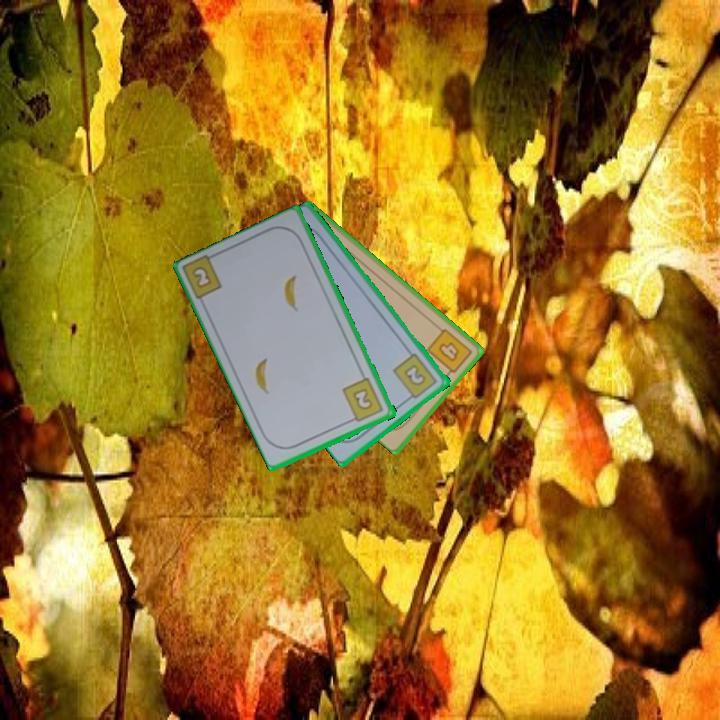2b: (390, 350, 441, 404), (339, 375, 386, 425), (191, 265, 213, 289)
4b: (423, 325, 475, 380)
